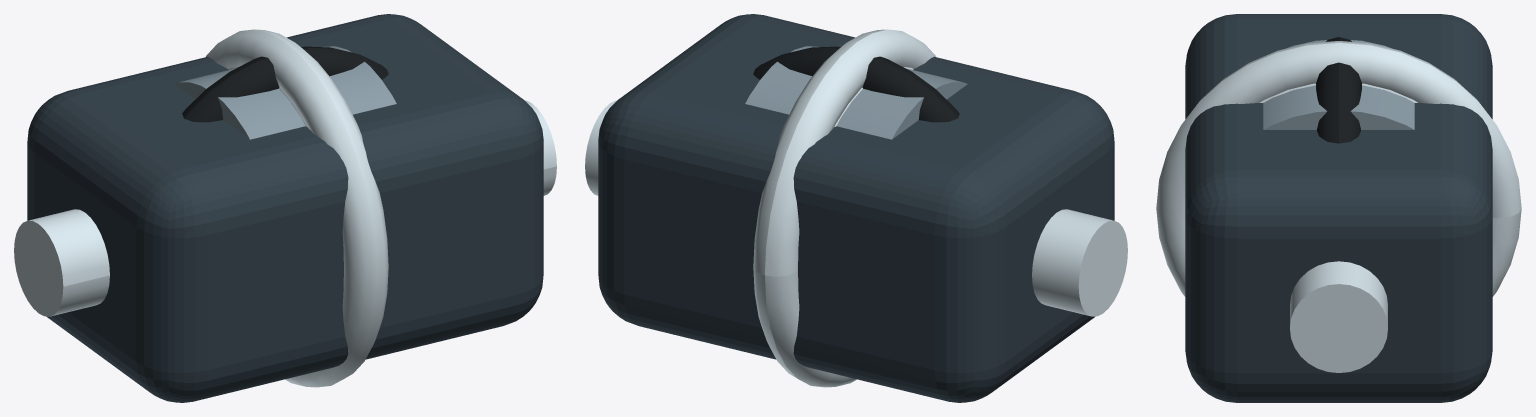
File: g4ed_timing.glb
The picture shows the model from 3 angles, left to right: view 1: azimuth 30°, elevation 25°; view 2: azimuth 150°, elevation 25°; view 3: azimuth 270°, elevation 25°; orthographic projection.
Parts seen in each view (by area): view 1: asset_mesh__g4ed_125__reference_body, asset_mesh__g4ed_111__reference_rim, asset_mesh__g4ed_125__reference_axis, asset_mesh__g4ed_111__reference_rotor, asset_mesh__g4ed_110__reference_seal; view 2: asset_mesh__g4ed_125__reference_body, asset_mesh__g4ed_111__reference_rim, asset_mesh__g4ed_125__reference_axis, asset_mesh__g4ed_111__reference_rotor, asset_mesh__g4ed_110__reference_seal; view 3: asset_mesh__g4ed_125__reference_body, asset_mesh__g4ed_111__reference_rim, asset_mesh__g4ed_125__reference_axis, asset_mesh__g4ed_111__reference_rotor, asset_mesh__g4ed_110__reference_seal.
Part boxes in pixels (x1,y1,x2,y2): asset_mesh__g4ed_125__reference_body: [27, 14, 543, 402]; asset_mesh__g4ed_111__reference_rim: [206, 29, 388, 387]; asset_mesh__g4ed_125__reference_axis: [14, 100, 556, 316]; asset_mesh__g4ed_111__reference_rotor: [174, 46, 396, 139]; asset_mesh__g4ed_110__reference_seal: [182, 46, 388, 122]; asset_mesh__g4ed_125__reference_body: [598, 14, 1114, 402]; asset_mesh__g4ed_111__reference_rim: [753, 29, 935, 387]; asset_mesh__g4ed_125__reference_axis: [585, 100, 1127, 316]; asset_mesh__g4ed_111__reference_rotor: [745, 46, 967, 139]; asset_mesh__g4ed_110__reference_seal: [753, 46, 959, 122]; asset_mesh__g4ed_125__reference_body: [1185, 14, 1492, 402]; asset_mesh__g4ed_111__reference_rim: [1156, 41, 1521, 296]; asset_mesh__g4ed_125__reference_axis: [1290, 261, 1387, 372]; asset_mesh__g4ed_111__reference_rotor: [1263, 40, 1414, 129]; asset_mesh__g4ed_110__reference_seal: [1316, 37, 1361, 143].
Size of the model in its own units: 1.98 by 1.27 by 1.27.
